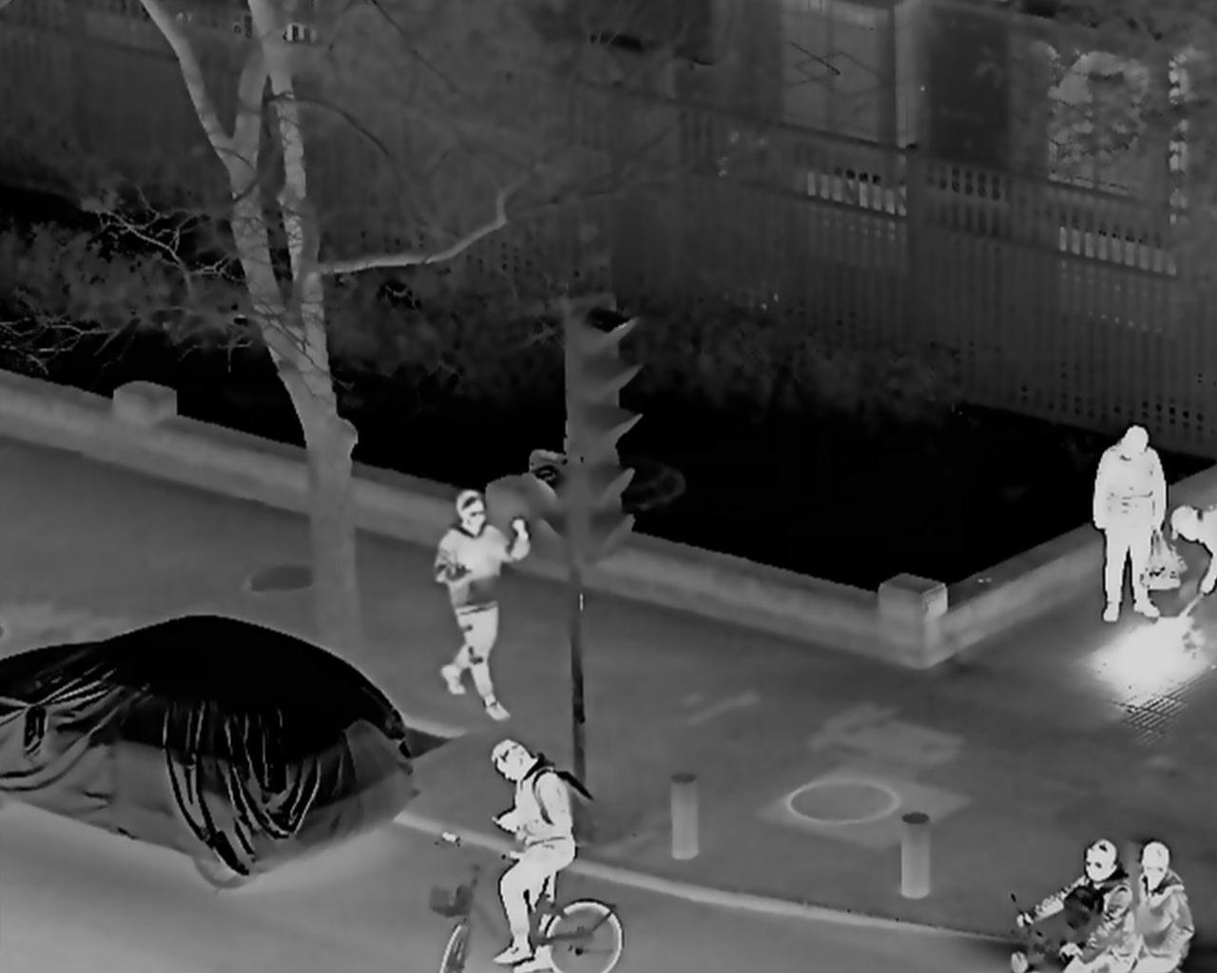person: (436, 494, 527, 722), (487, 738, 576, 970), (1016, 840, 1131, 973), (1092, 423, 1164, 623), (1119, 841, 1198, 973), (1171, 501, 1217, 596)
